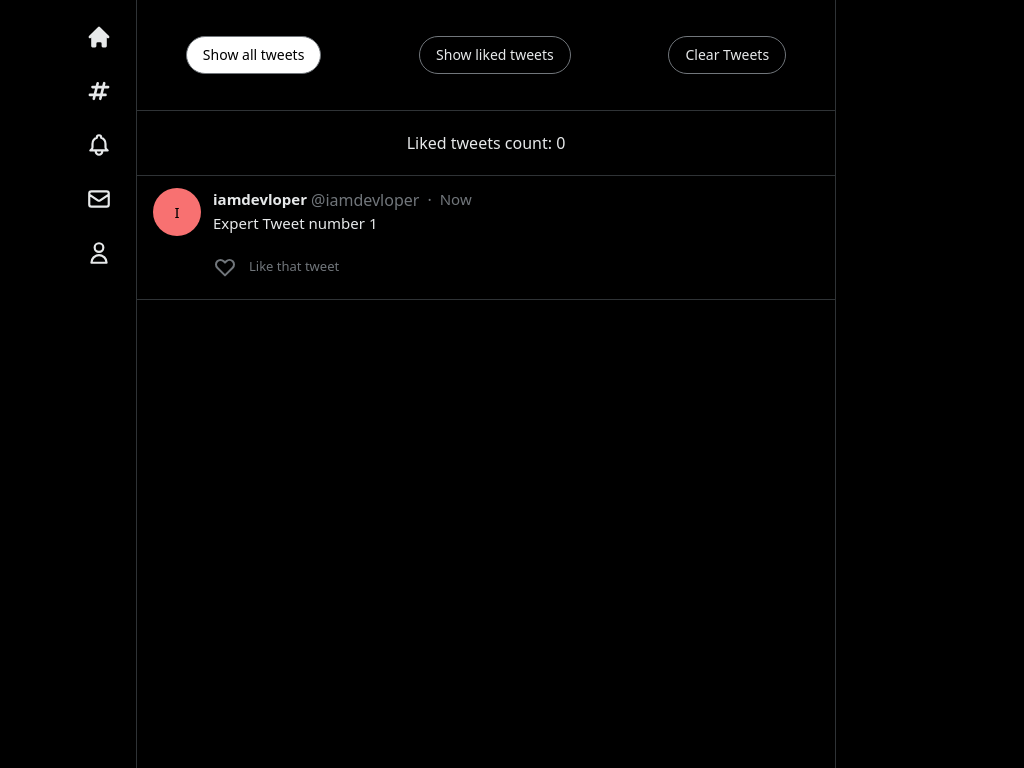
Tweet actions should work › should filter all tweets correctly
expect the number of icons with test id "defaultTweet" is 1: met, box [213, 255, 237, 279]
Click the button with test id "showLikedTweetsButton".
click(495, 55)  # box [419, 36, 571, 74]
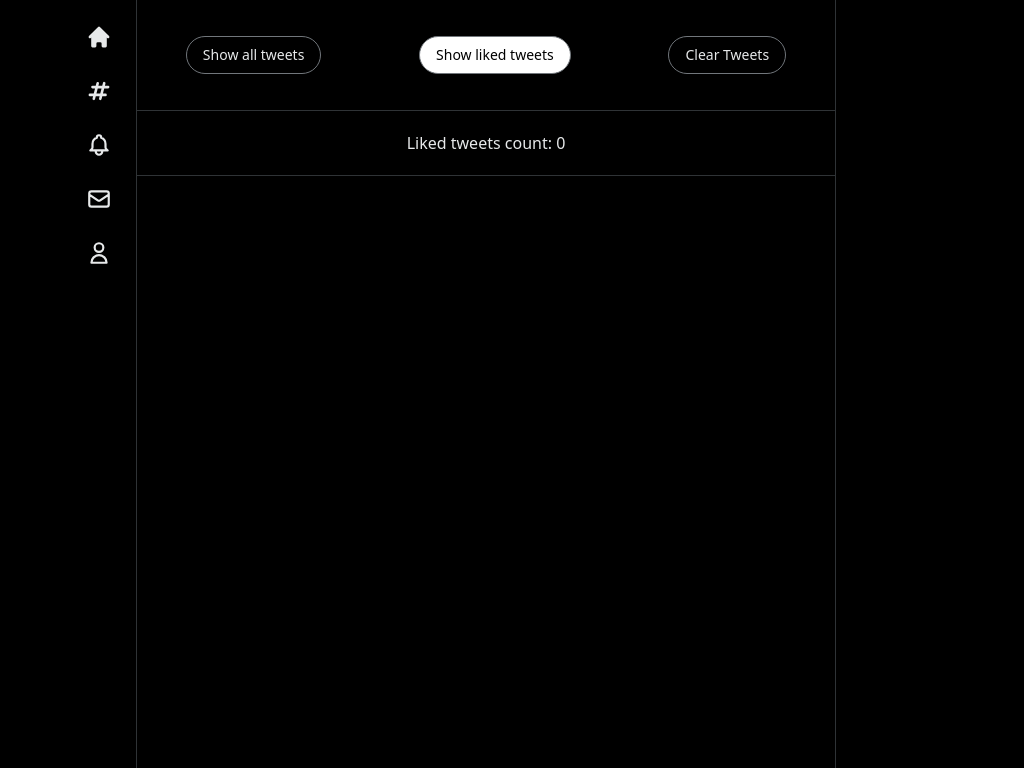
expect no icons with test id "defaultTweet" are shown: met
Click the button with test id "showAllTweetsButton".
click(254, 55)  # box [186, 36, 322, 74]
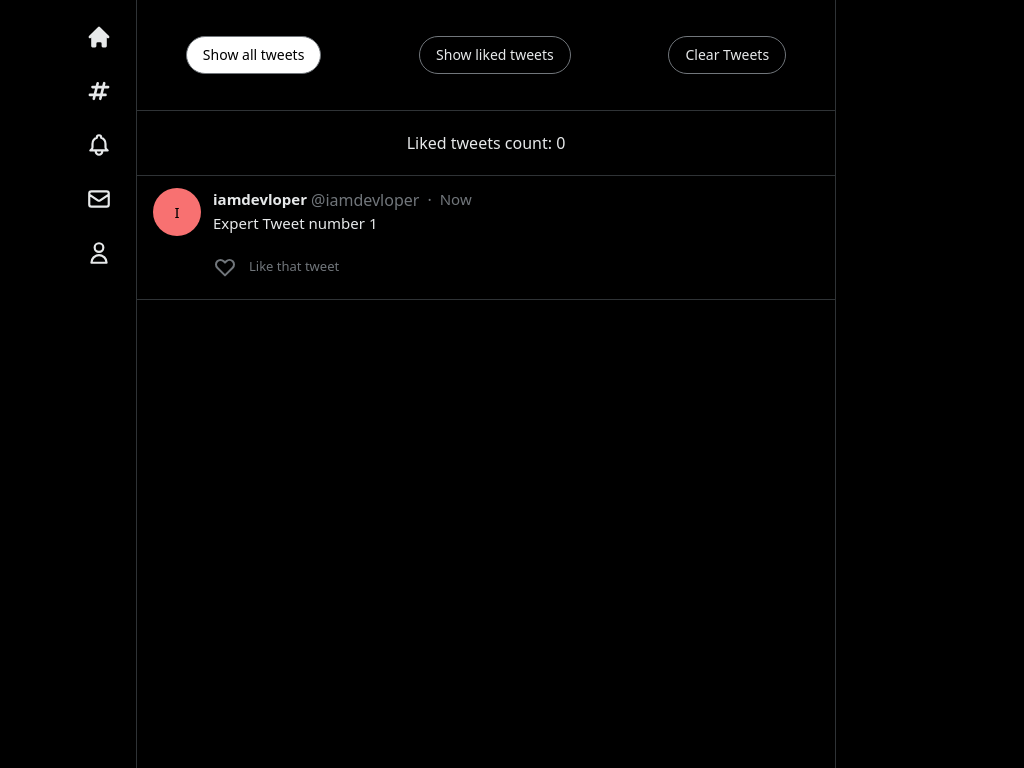
expect the number of icons with test id "defaultTweet" is 1: met, box [213, 255, 237, 279]
